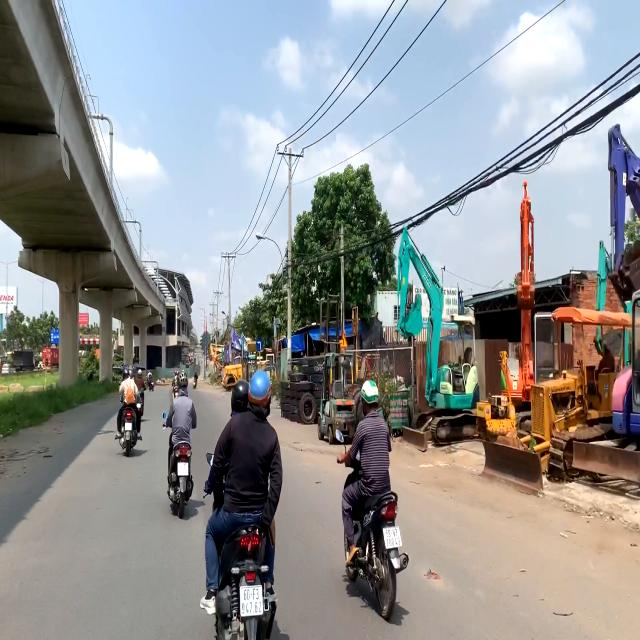R.301e: (255, 338, 262, 352)
